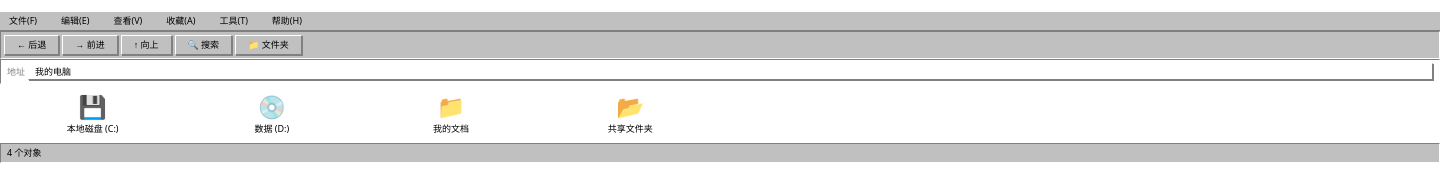
MyComputer Component - Paint Files Integration › should show paint files in 图片收藏 folder
Double-click the text "我的文档".
double_click(451, 129)  # box [433,123,469,134]
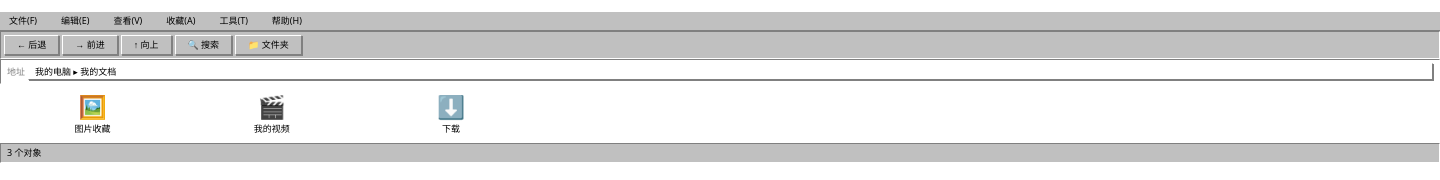
Check: the text "图片收藏" is shown
Double-click the text "图片收藏".
double_click(93, 129)  # box [75,123,111,134]
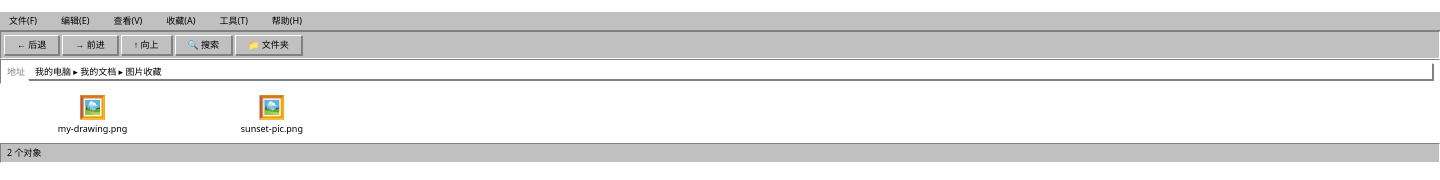
Check: the text "my-drawing.png" is shown, box [58,123,127,134]
Check: the text "sunset-pic.png" is shown, box [241,123,303,134]
